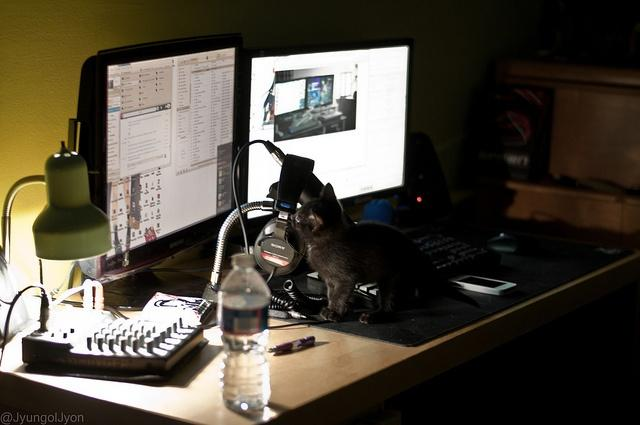AIO PC-Monitor-TV: (95, 31, 241, 278), (239, 37, 415, 225)
